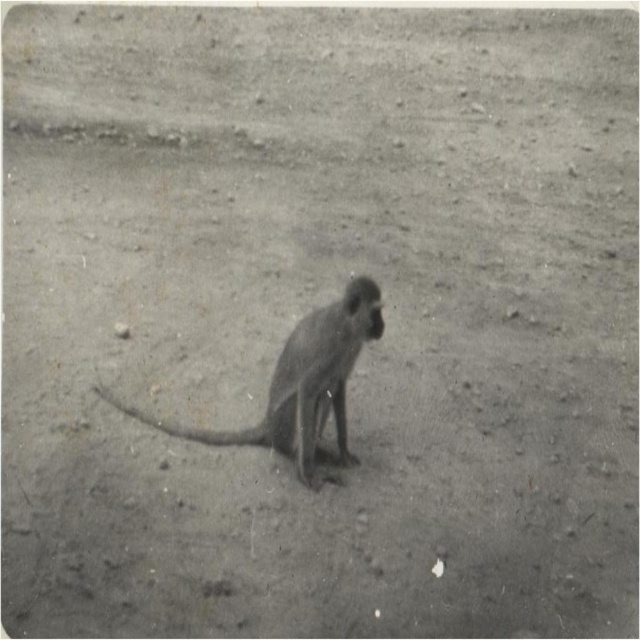Monkey: (101, 286, 375, 497)
